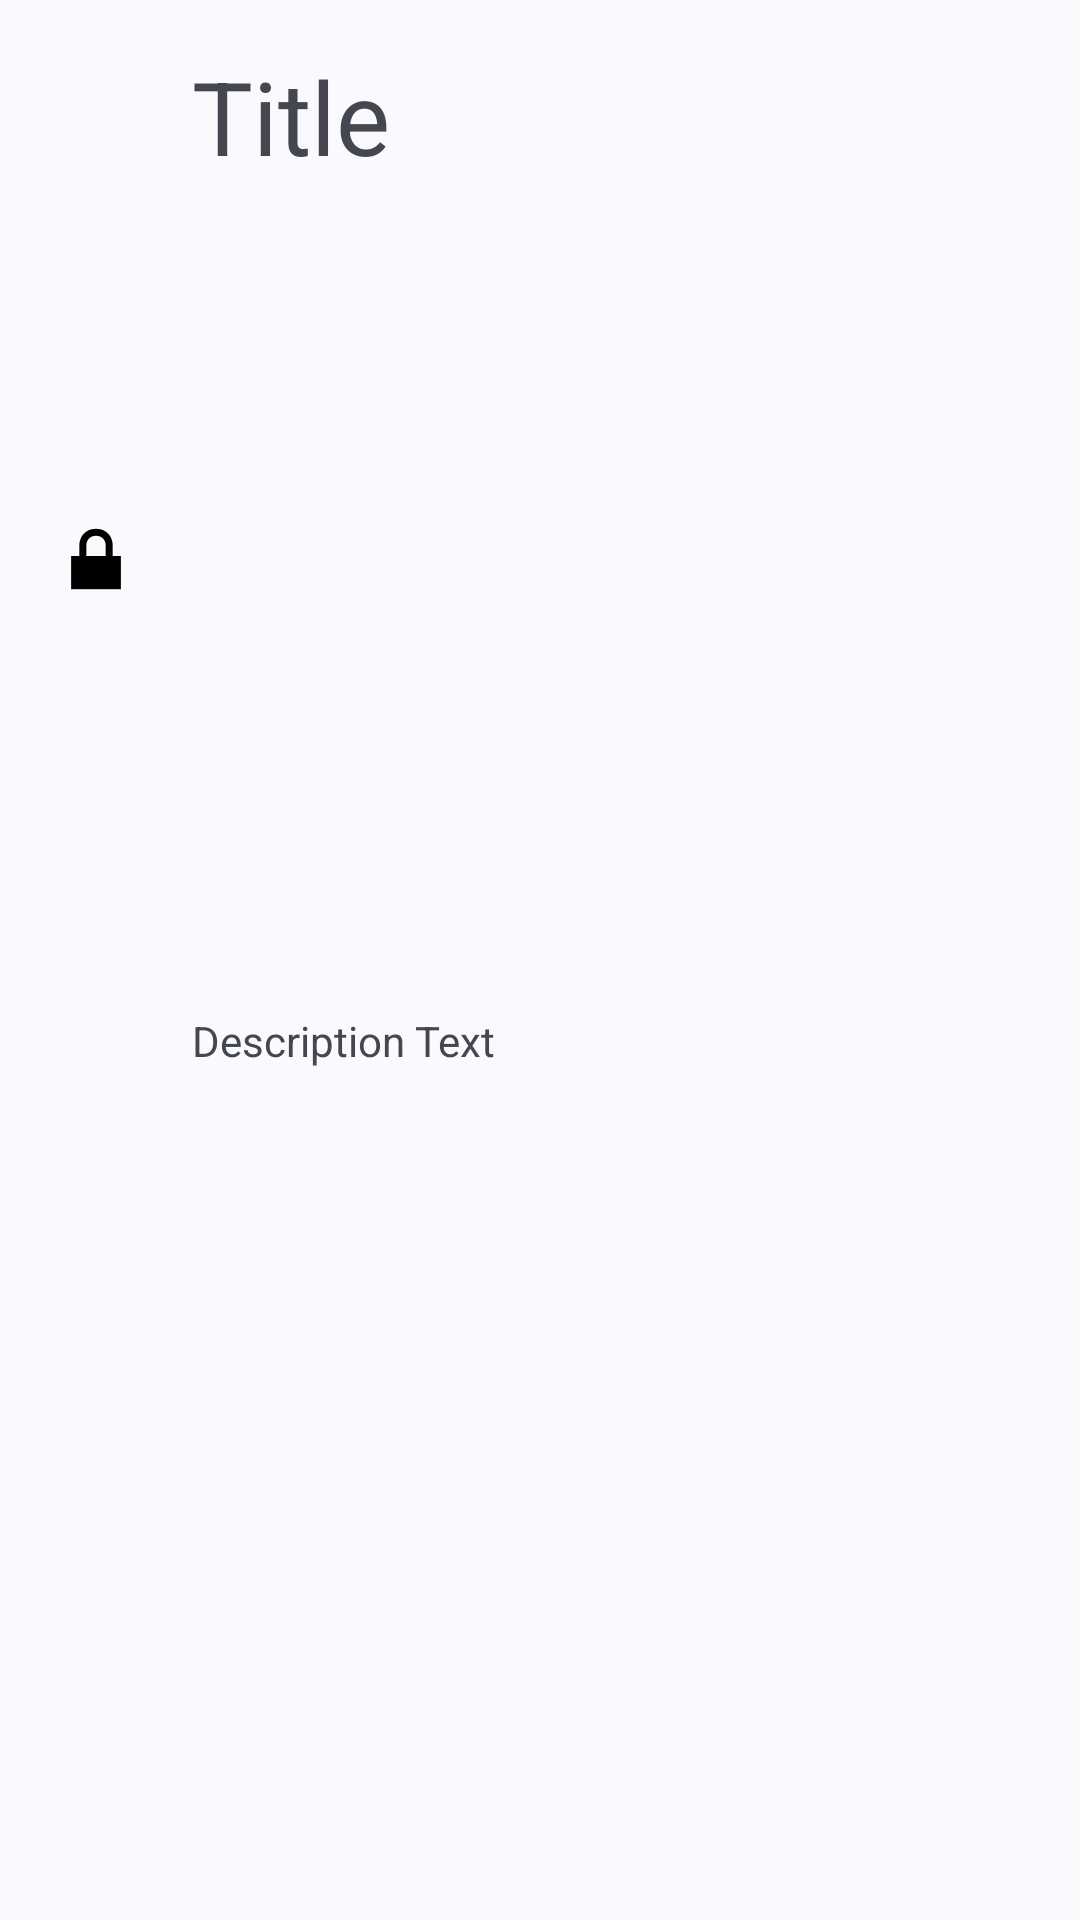

Point at icon controls on the screen. Image size 1080px x 1920px, points as (x=x, y=y).
lock: (x=96, y=559)
